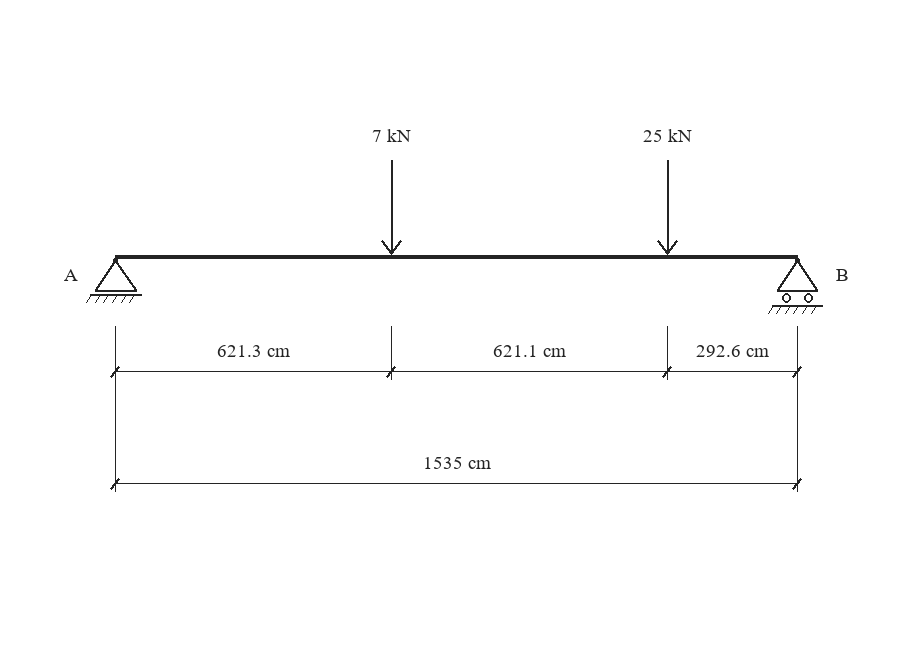pin_support: (86, 258, 142, 303)
point_load: (381, 160, 402, 255), (657, 160, 678, 255)
roller_support: (768, 258, 823, 314)
